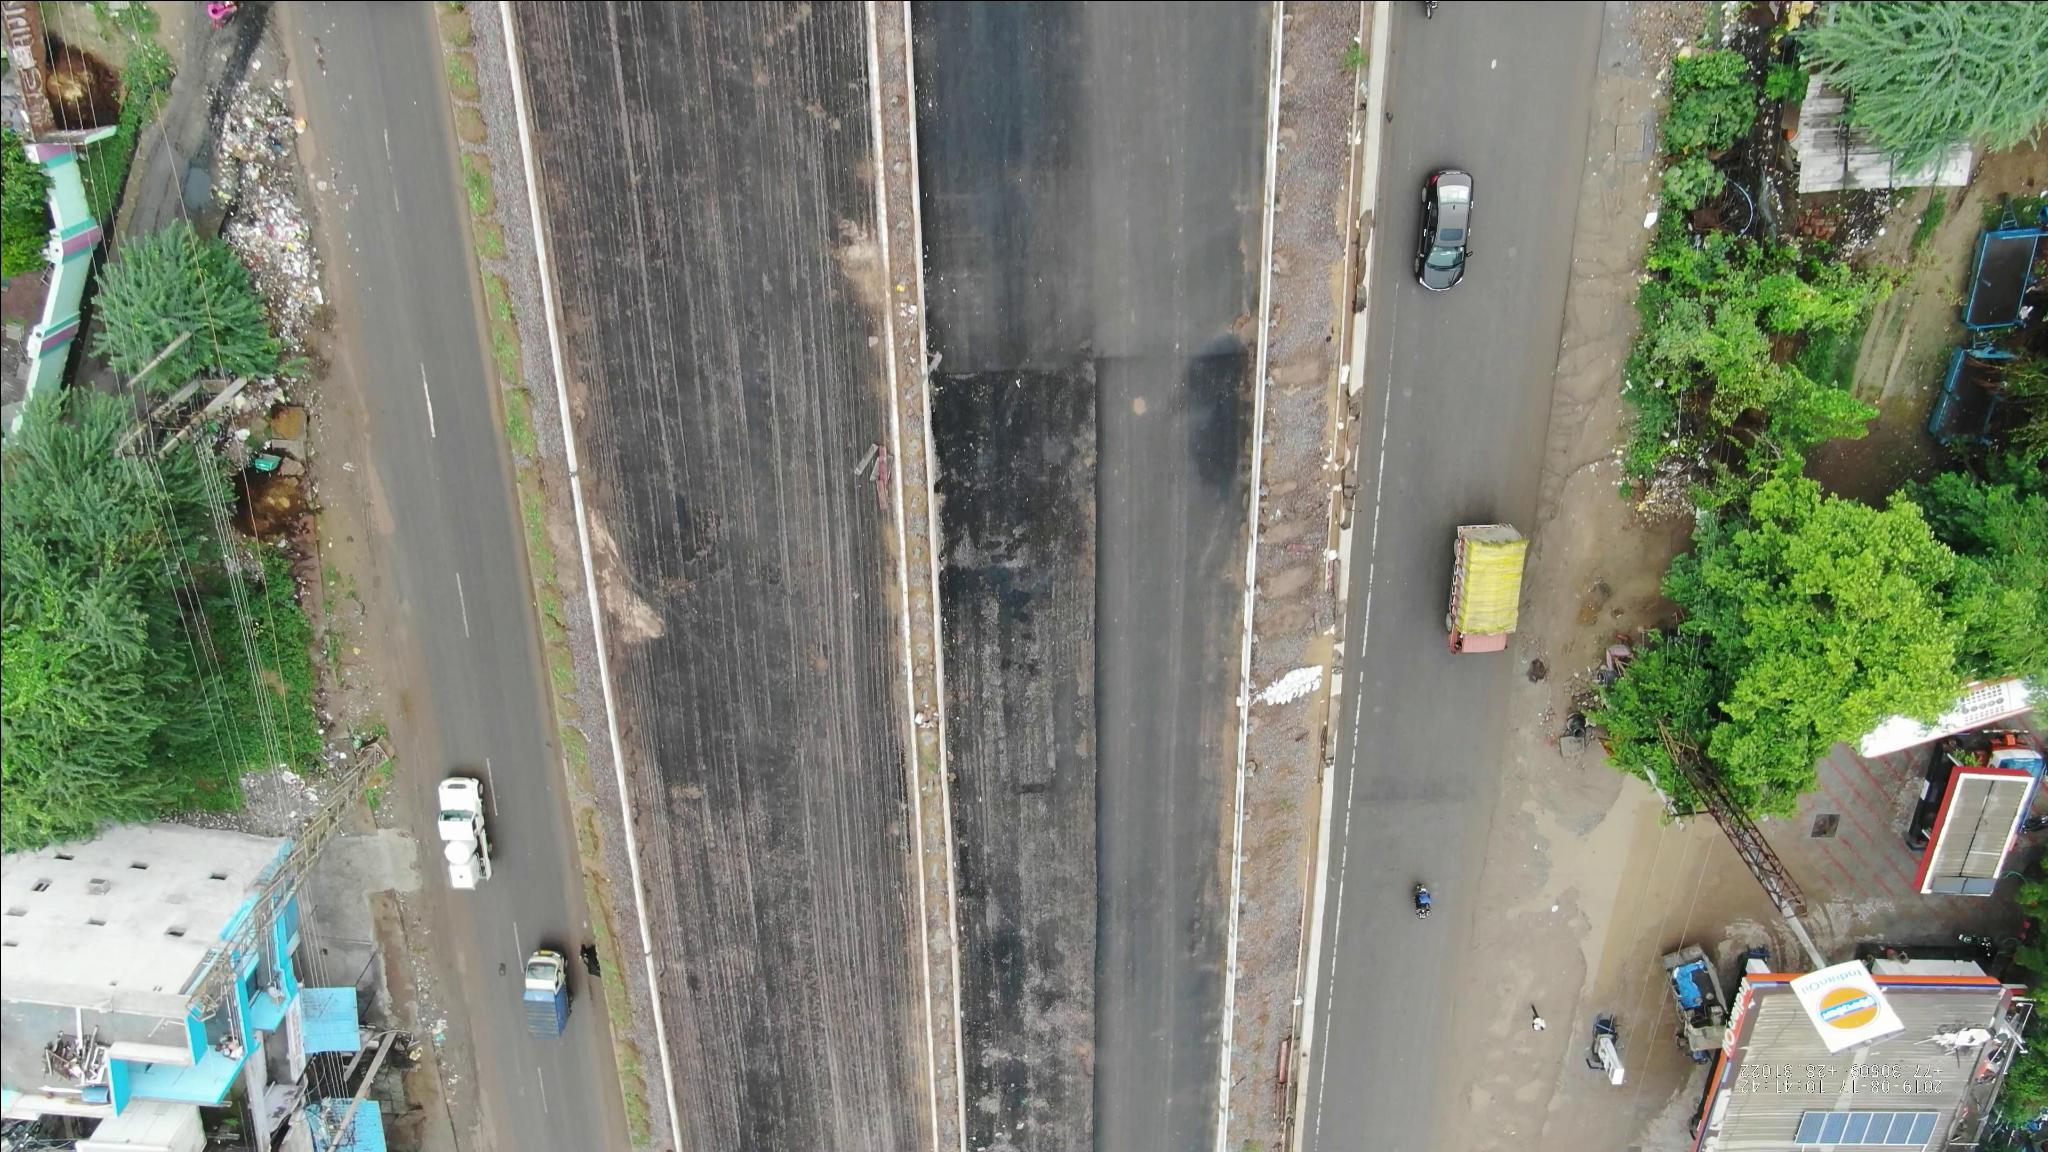Road_side_garbage: (217, 96, 340, 324)
